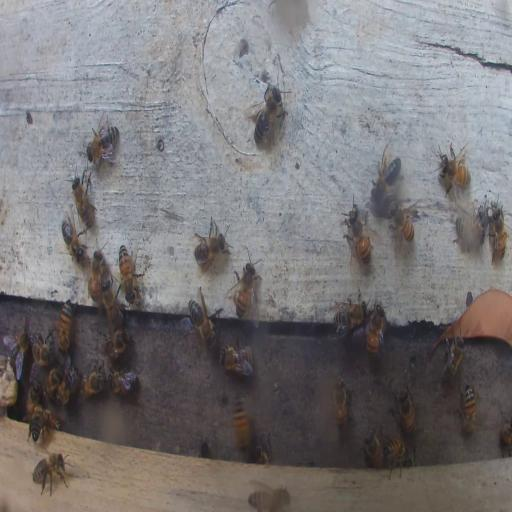bee: (248, 80, 286, 148), (192, 214, 235, 270), (229, 249, 260, 322), (342, 191, 372, 263), (186, 286, 218, 346), (86, 113, 120, 168), (370, 147, 402, 203), (436, 140, 470, 192), (31, 452, 70, 494), (332, 296, 368, 334), (71, 170, 93, 230), (61, 214, 87, 264), (383, 434, 412, 478), (220, 342, 255, 378), (488, 200, 508, 262), (365, 301, 387, 357), (246, 484, 290, 512), (394, 383, 416, 439), (389, 200, 417, 244), (231, 394, 251, 454), (455, 215, 485, 254), (100, 279, 124, 327), (440, 338, 465, 384), (332, 375, 351, 431), (28, 409, 60, 440), (118, 243, 136, 298), (106, 366, 140, 395), (458, 382, 476, 436), (54, 300, 72, 350), (362, 424, 382, 469), (80, 365, 105, 401), (12, 322, 30, 370), (31, 335, 56, 367), (88, 248, 103, 301), (104, 328, 128, 360), (59, 361, 78, 401), (44, 364, 64, 399), (253, 436, 271, 464), (500, 410, 512, 452), (26, 380, 40, 416)
